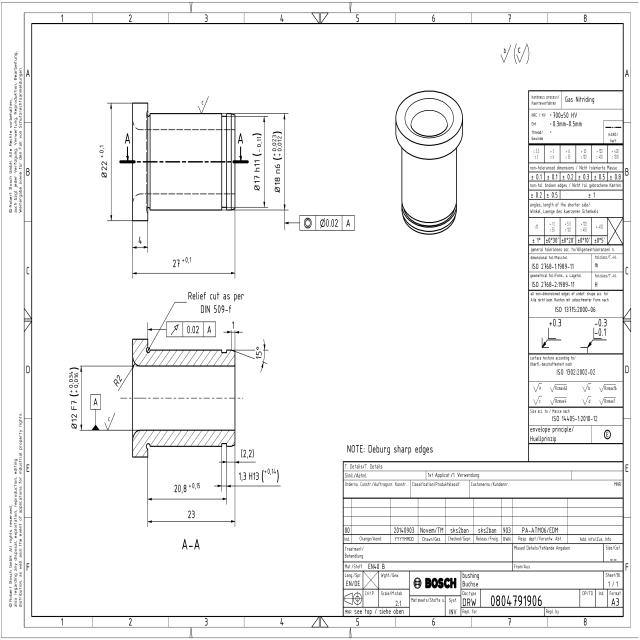dimension: (271, 129, 283, 194), (68, 365, 80, 430), (252, 132, 264, 193), (238, 467, 280, 484), (173, 481, 201, 494), (99, 144, 108, 181), (172, 255, 192, 269), (240, 447, 256, 460), (112, 372, 124, 388), (255, 345, 263, 361), (187, 508, 196, 520), (138, 234, 144, 245), (231, 320, 235, 330)
